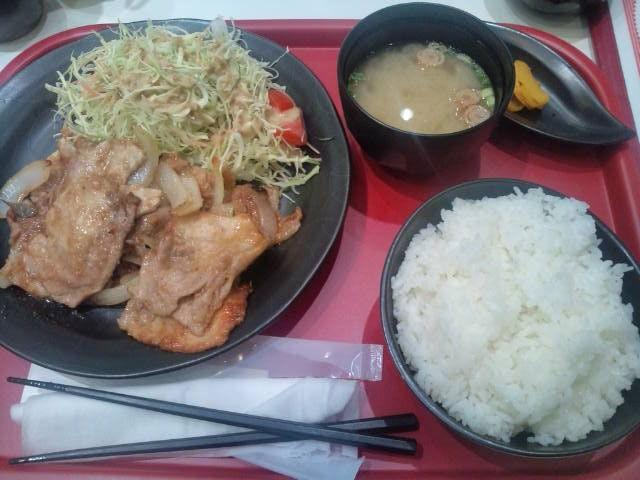plate: (0, 19, 349, 378), (380, 178, 639, 464), (590, 213, 639, 329)
rice: (391, 188, 639, 445)
